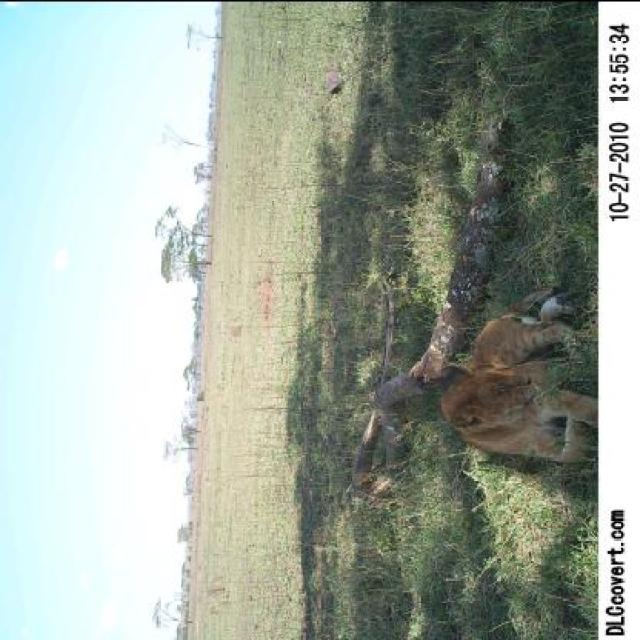Lion: (423, 269, 597, 477)
